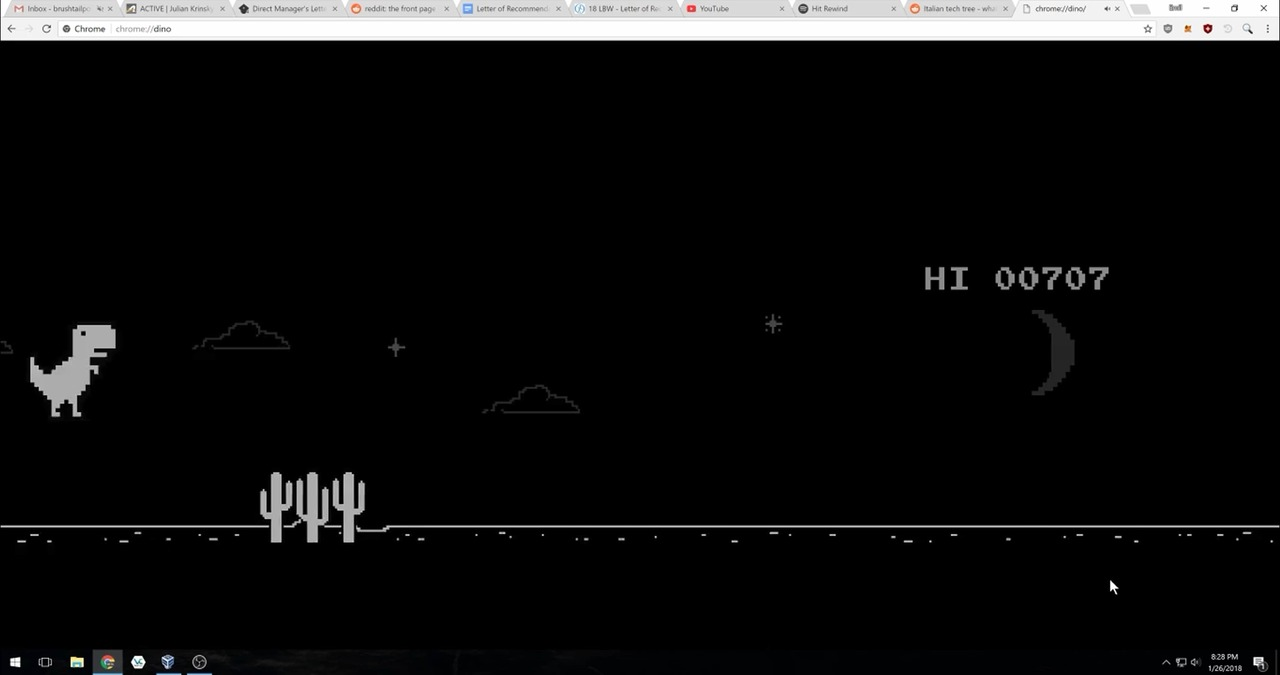cactus: (255, 467, 368, 553)
dinosaur: (25, 322, 114, 420)
